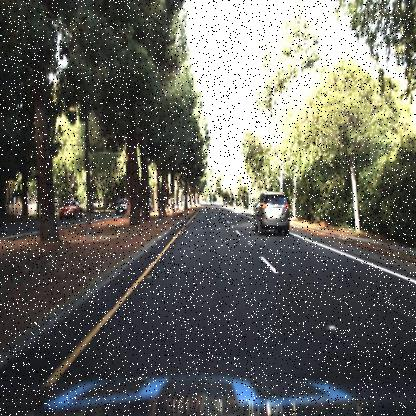car: (254, 192, 289, 236), (56, 196, 82, 222), (112, 196, 130, 218)
